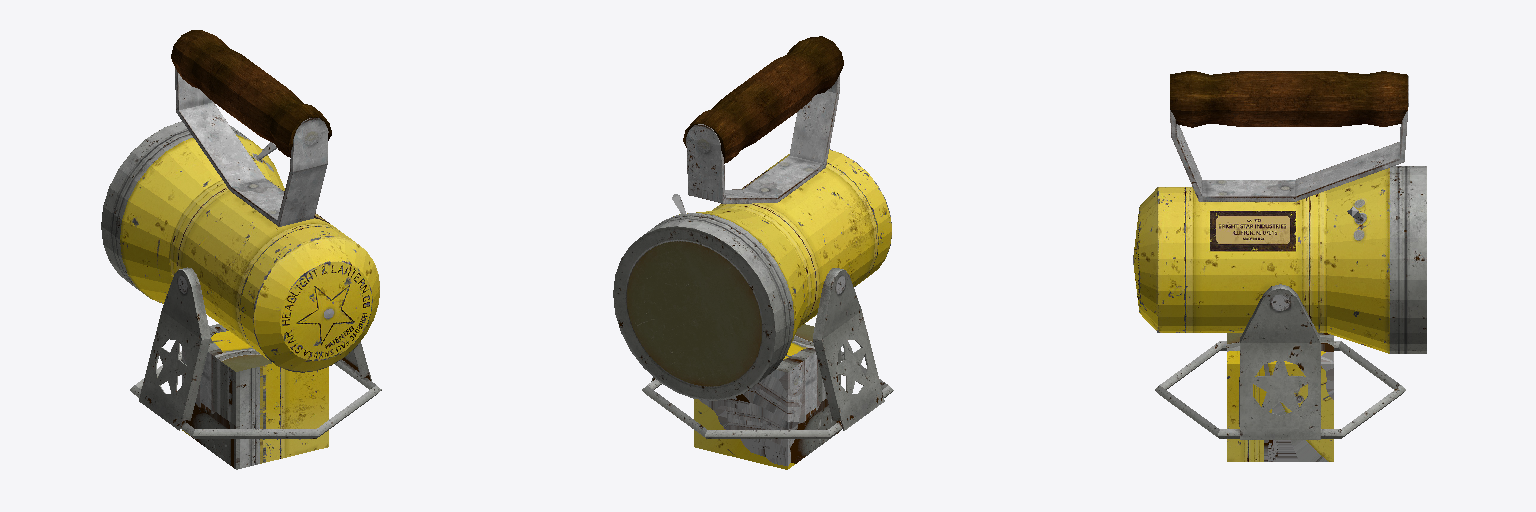
3 renders of one model, left to right at view 1: azimuth 30°, elevation 25°; view 2: azimuth 150°, elevation 25°; view 3: azimuth 270°, elevation 25°, orthographic.
Visible parts, largest first — view 1: RFB_tria, Cube; view 2: RFB_tria, Cube; view 3: RFB_tria, Cube.
Boxes of the visible parts, box(x1,y1,x2,y2) form: RFB_tria: box(101, 30, 381, 438); Cube: box(182, 324, 328, 469); RFB_tria: box(613, 36, 893, 438); Cube: box(694, 324, 840, 469); RFB_tria: box(1133, 71, 1426, 439); Cube: box(1227, 333, 1333, 461).
Size of the model in its own units: 4.16 by 7.5 by 5.46.
Materials: 2 (1 with a texture image).